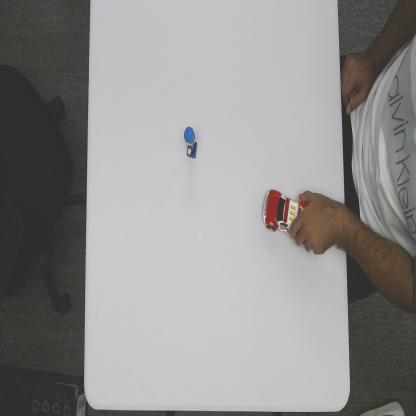Firetruck: (260, 187, 304, 234)
Hand: (292, 190, 346, 260)
